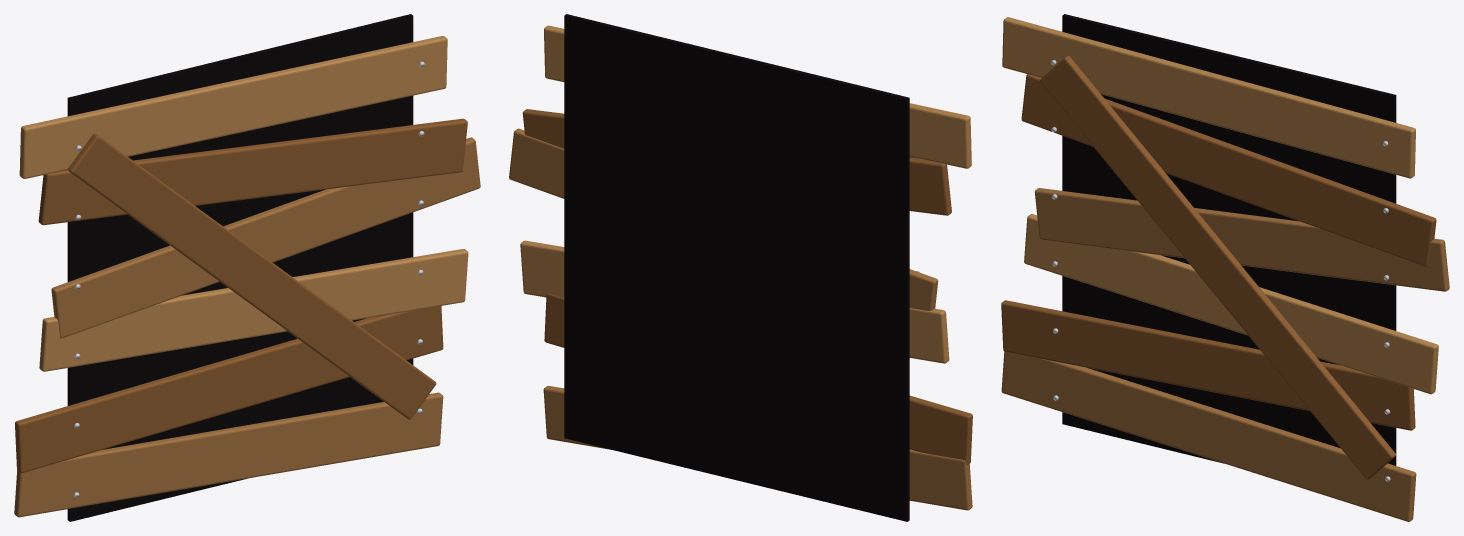
File: Wall_BoardedPlanks.fbx
3 renders of one model, left to right at view 1: azimuth 30°, elevation 25°; view 2: azimuth 150°, elevation 25°; view 3: azimuth 330°, elevation 25°, orthographic. The views are drawn at different scales.
Visible parts, largest first — view 1: Wall_BoardedPlanks; view 2: Wall_BoardedPlanks; view 3: Wall_BoardedPlanks.
Boxes of the visible parts, <box> form: Wall_BoardedPlanks: <box>14,14,480,521</box>; Wall_BoardedPlanks: <box>509,14,972,521</box>; Wall_BoardedPlanks: <box>1001,14,1449,521</box>.
Size of the model in its own units: 2.29 by 2.04 by 0.13.
